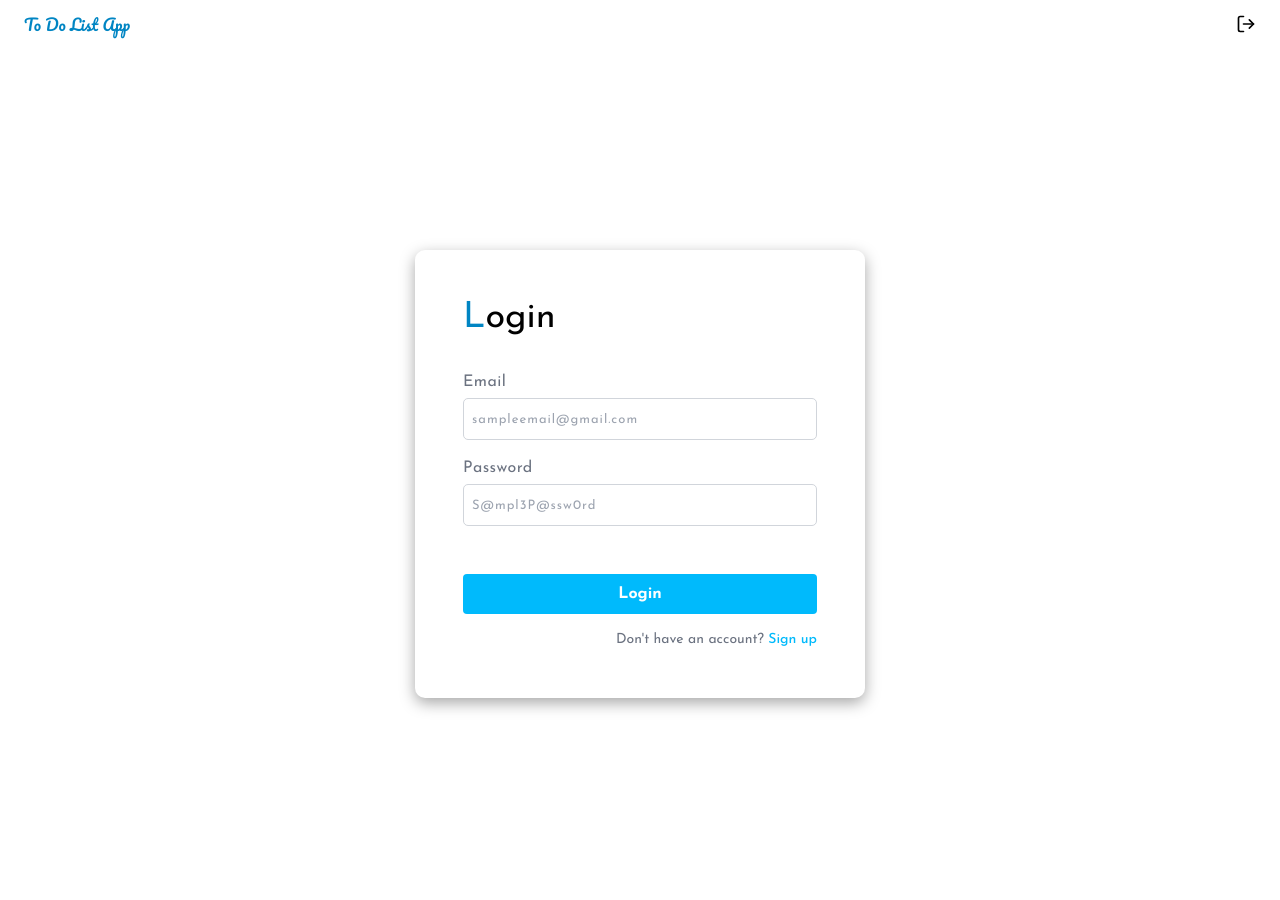
Test: Login View › display error on empty password
Step 1. Type "testuser@gmail.com" into the field labelled "Email" → (640, 419), box x1=463 y1=398 x2=817 y2=440
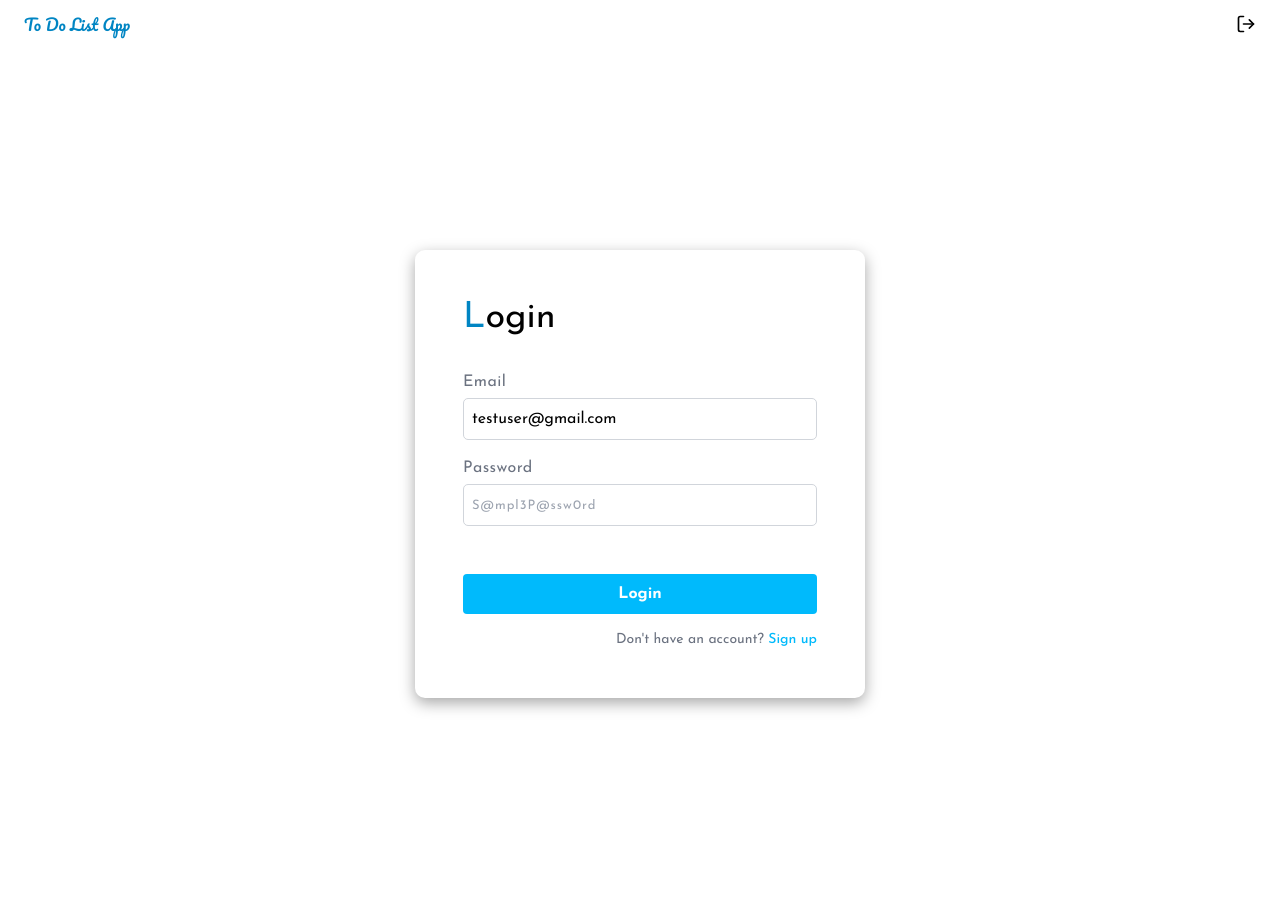
Step 2. Click the button "Login" → (640, 594), box x1=463 y1=574 x2=817 y2=614
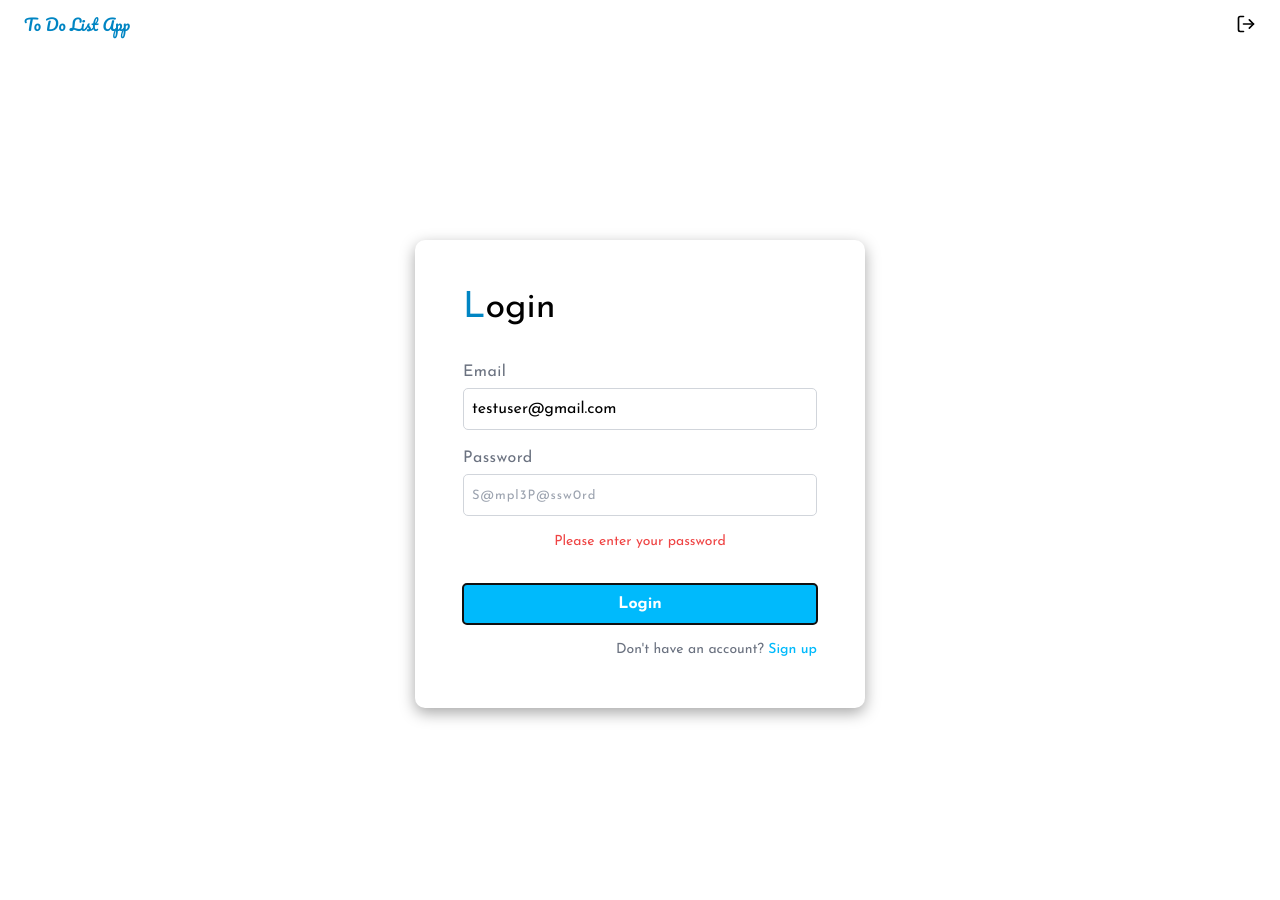
Expected: the text with test id "error-message" reads "Please enter your password", x1=554 y1=534 x2=726 y2=549
